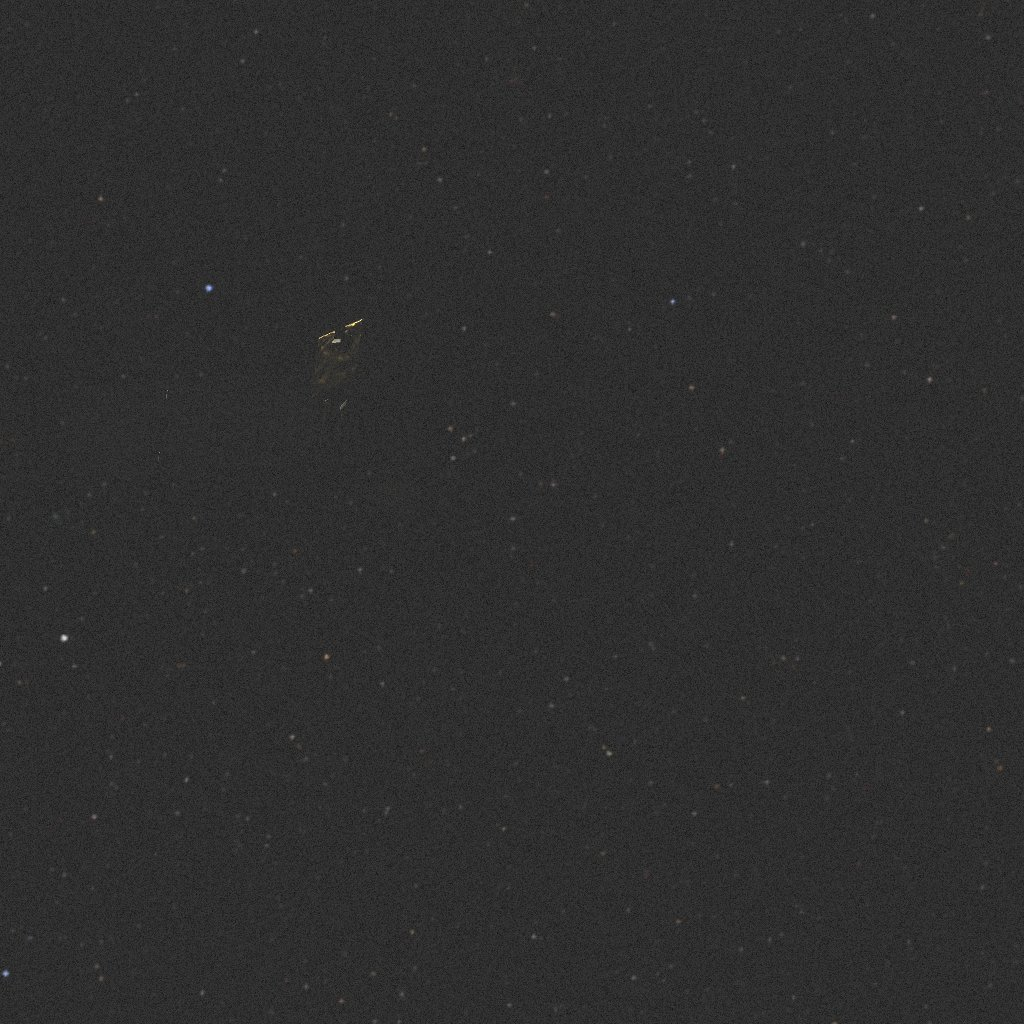earth_observation_sat_1: (66, 316, 461, 505)
